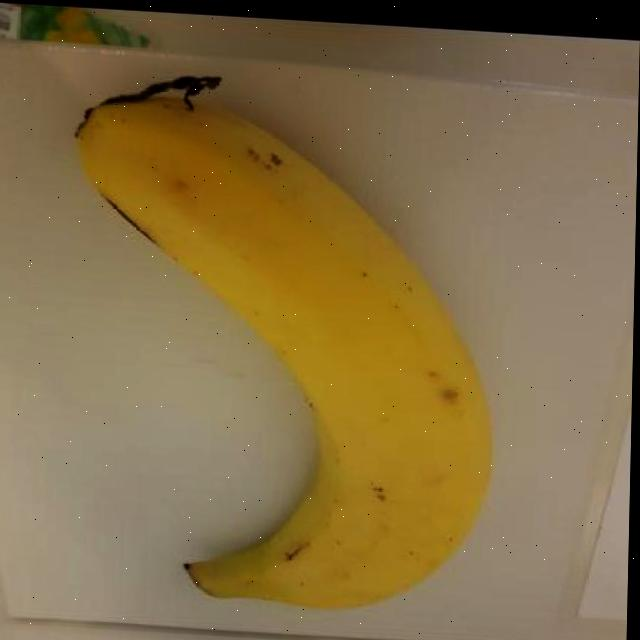banana: (57, 64, 511, 619)
